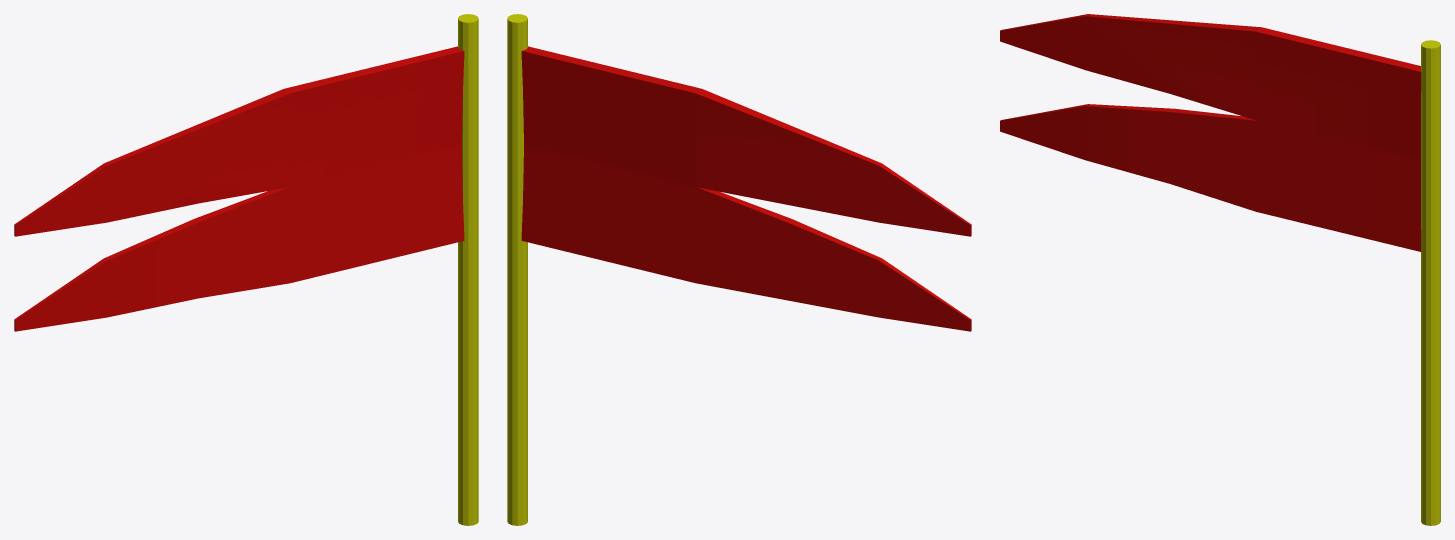
Rendered from flag.glb.
3 renders of one model, left to right at view 1: azimuth 30°, elevation 25°; view 2: azimuth 150°, elevation 25°; view 3: azimuth 330°, elevation 25°, orthographic. The views are drawn at different scales.
Size of the model in its own units: 5.1 by 5.3 by 0.1999.
